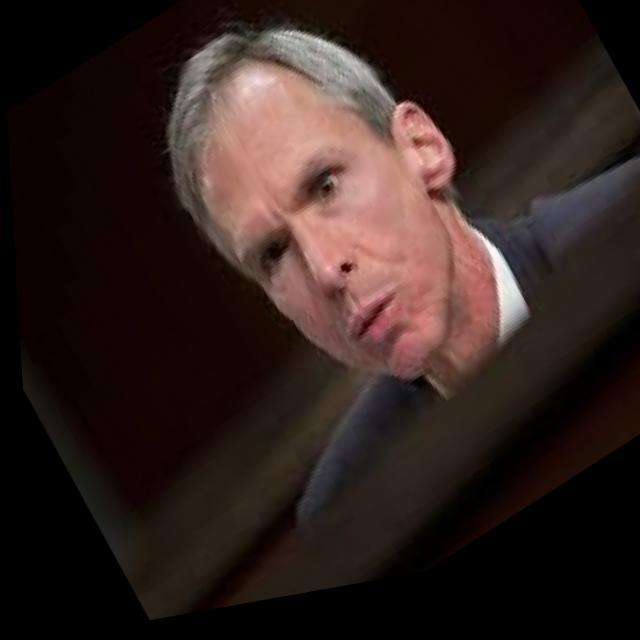Nonhelmet: (156, 22, 482, 401)
